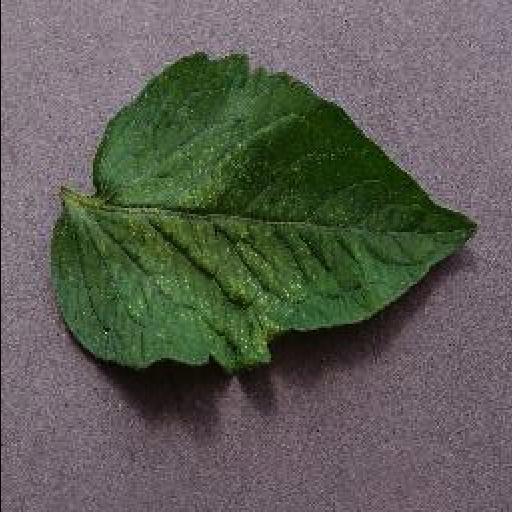disease_tomato: (48, 54, 478, 370)
